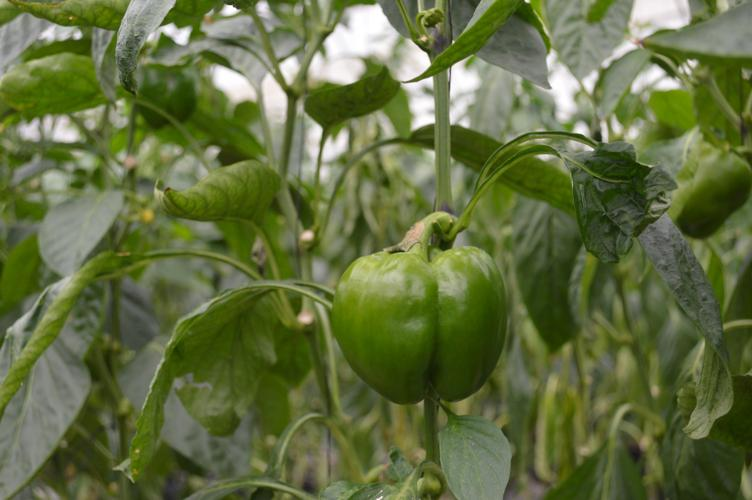BellPepper: (333, 239, 529, 411), (663, 137, 752, 258), (120, 54, 215, 125)
